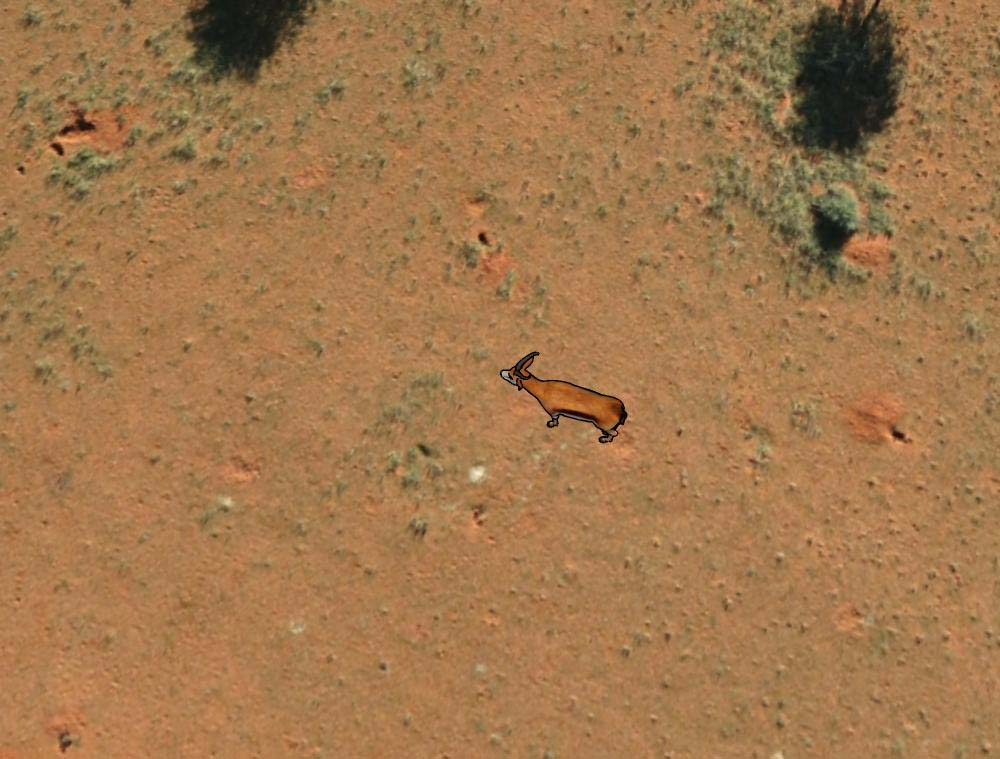springbok: (498, 349, 627, 448)
